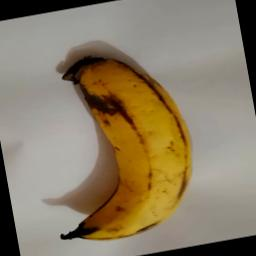Banana Unripe: (28, 40, 208, 250)
